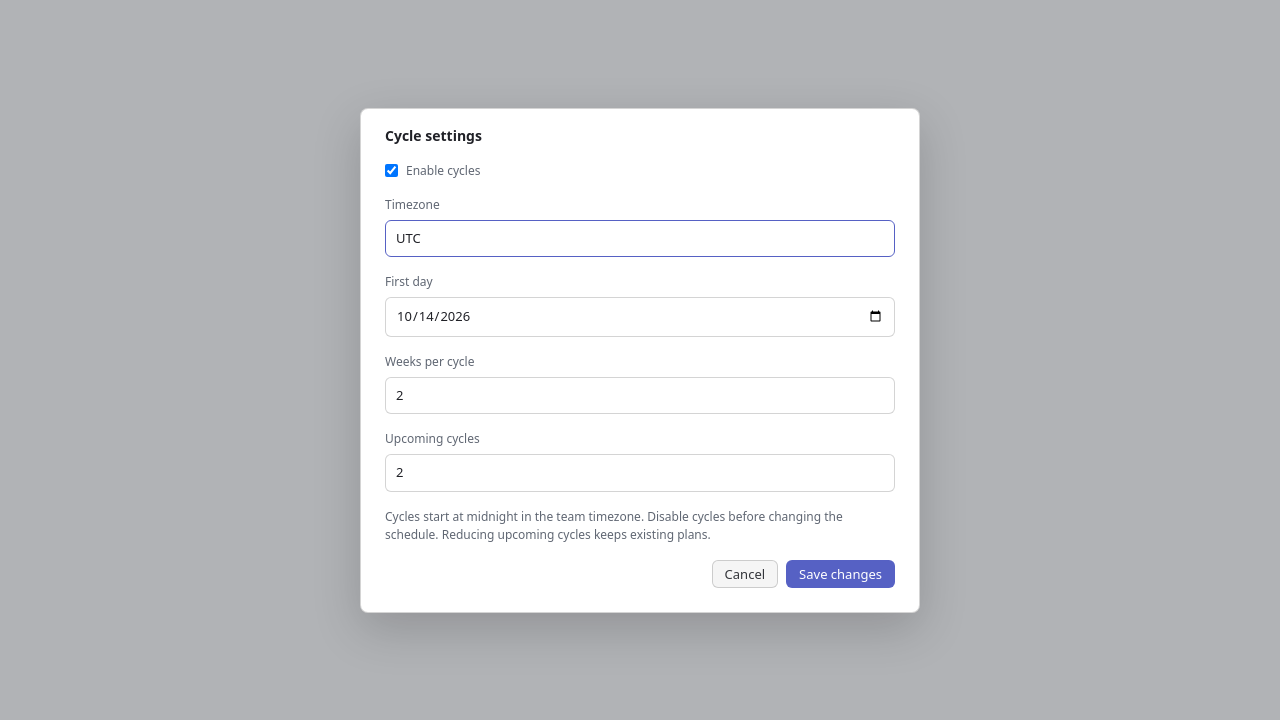
it: keeps cycle configuration drafts after a failed save
Replace the text in the number field labelled "Weeks per cycle" with "3" at (640, 395), box top-left (385, 376), bottom-right (895, 414)
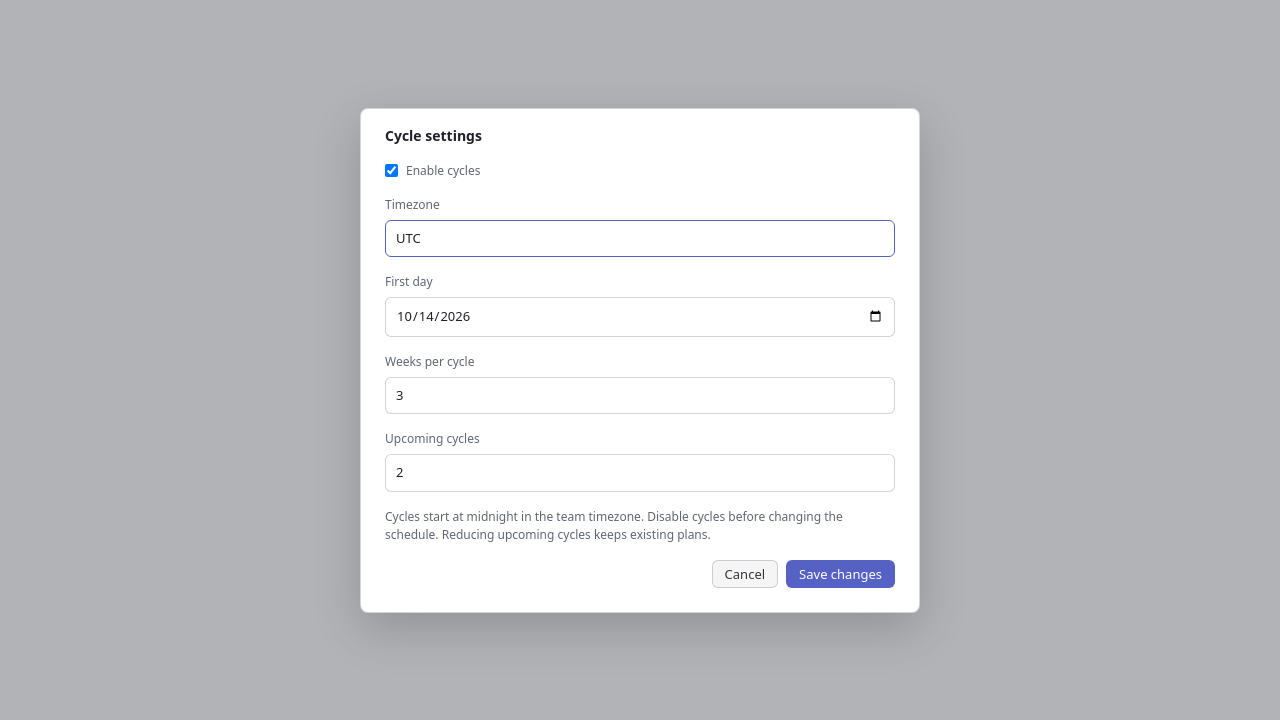
Click the button "Save changes" at (841, 574), box top-left (786, 560), bottom-right (895, 588)
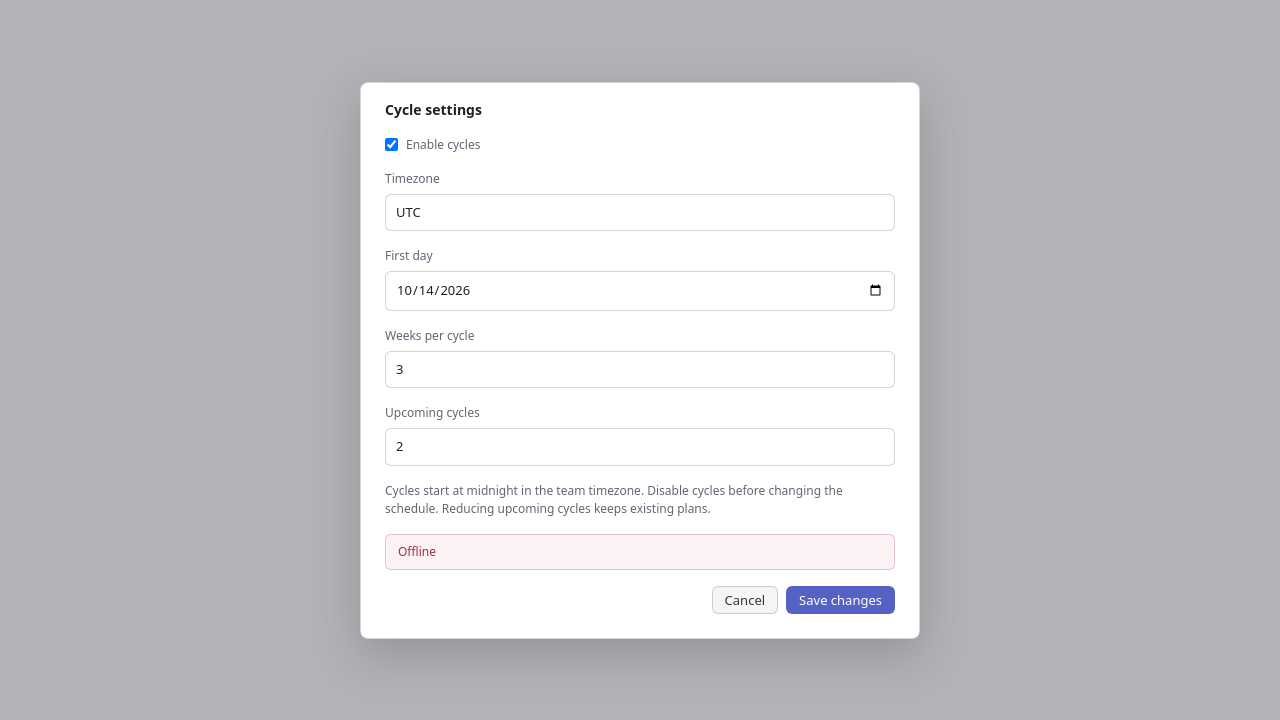
Expected: the button "Save changes" is enabled, top-left (786, 586), bottom-right (895, 614)
Result: the text "Offline" is shown at top-left (385, 534), bottom-right (895, 570)
